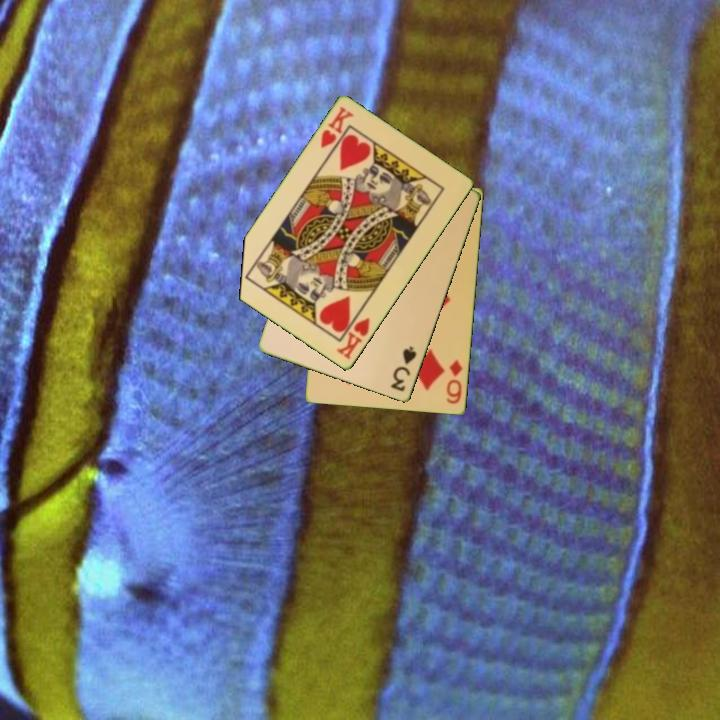3s: (387, 343, 420, 395)
6d: (443, 356, 466, 407)
Kh: (333, 307, 373, 363), (317, 103, 357, 152)
